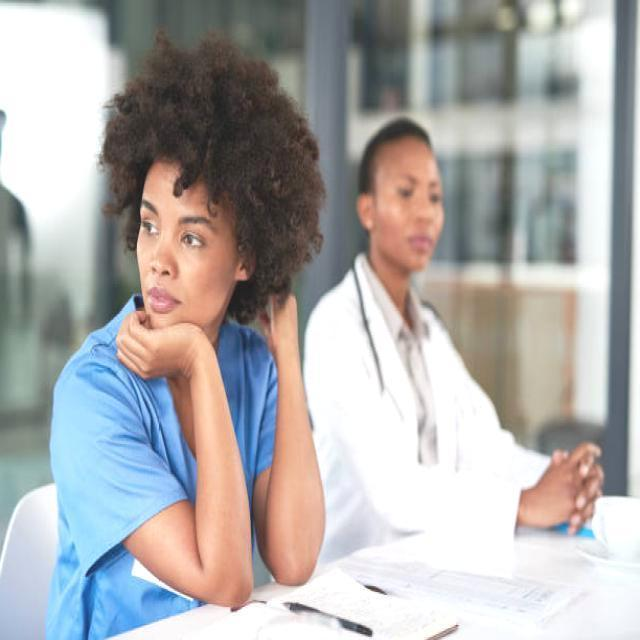Looking away: (136, 170, 231, 335)
Looking forward: (364, 139, 447, 273)
